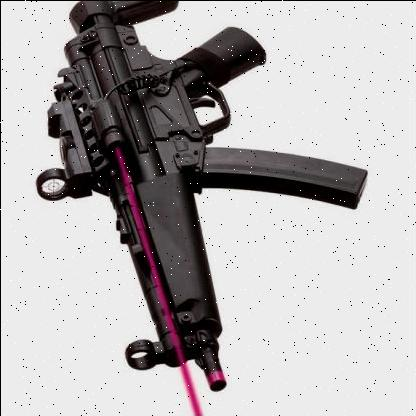rifle: (14, 6, 364, 398)
